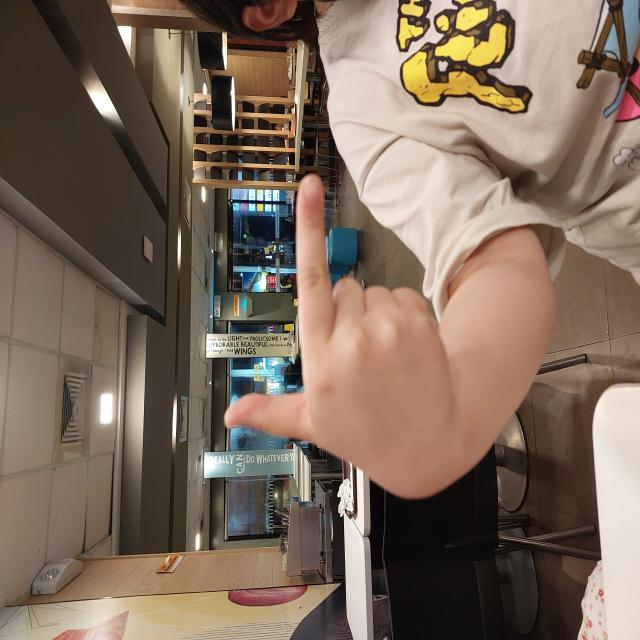G: (138, 223, 468, 455)
